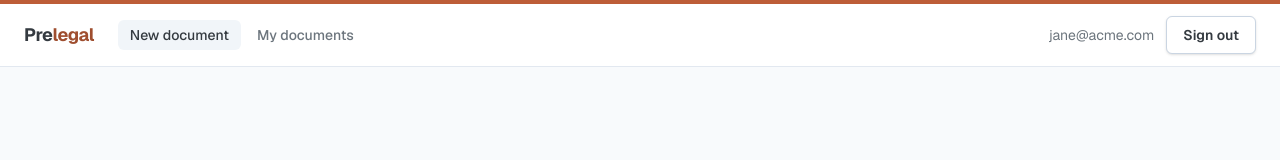
it: AppHeader › signs out through the API
Expected: the text "jane@acme.com" is shown, [1049,25,1154,45]
Click the button "Sign out". click: [1211, 35]
box: [1166,16,1256,54]
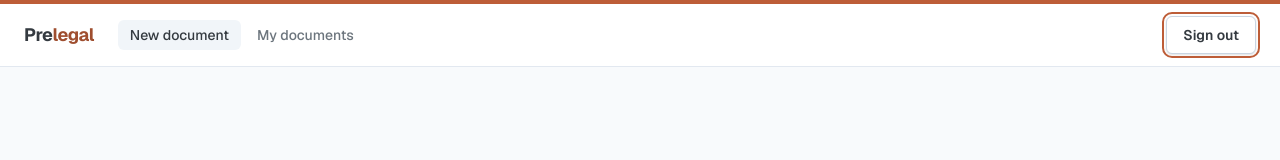
Expected: the text "jane@acme.com" is gone
